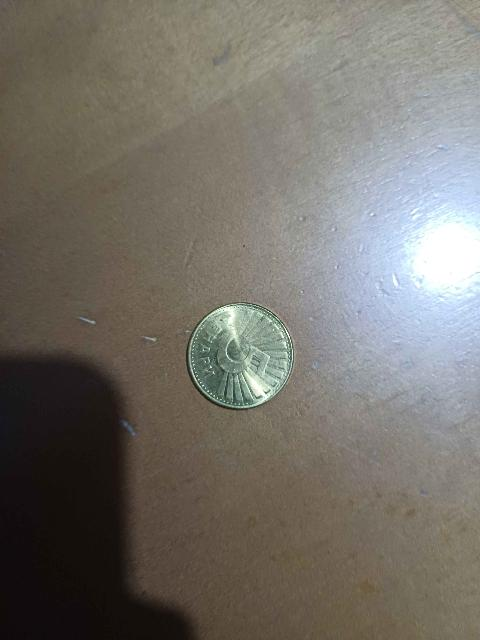coin: (188, 303, 295, 410)
